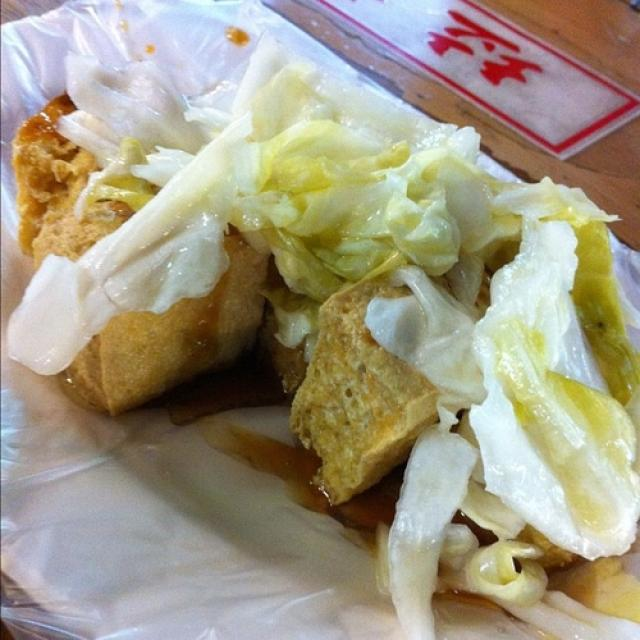豆腐料理: (5, 11, 626, 624)
